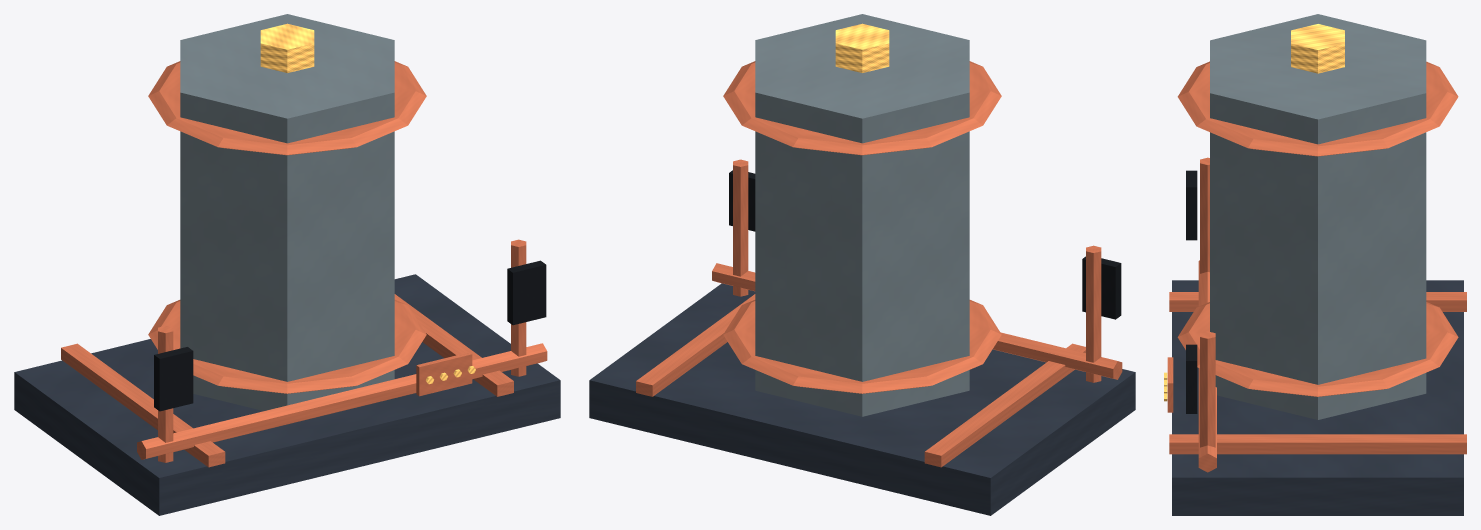
The model's file is atlas100-s022-a02.glb.
3 renders of one model, left to right at view 1: azimuth 30°, elevation 25°; view 2: azimuth 150°, elevation 25°; view 3: azimuth 270°, elevation 25°, orthographic.
Parts seen in each view (by area): view 1: atlas100-s022-a02:part-003, atlas100-s022-a02:part-000, atlas100-s022-a02:part-005, atlas100-s022-a02:part-011, atlas100-s022-a02:part-004, atlas100-s022-a02:part-001, atlas100-s022-a02:part-006, atlas100-s022-a02:part-010, atlas100-s022-a02:part-008, atlas100-s022-a02:part-002, atlas100-s022-a02:part-012, atlas100-s022-a02:part-009 (+1 smaller); view 2: atlas100-s022-a02:part-003, atlas100-s022-a02:part-000, atlas100-s022-a02:part-005, atlas100-s022-a02:part-004, atlas100-s022-a02:part-001, atlas100-s022-a02:part-011, atlas100-s022-a02:part-002, atlas100-s022-a02:part-006, atlas100-s022-a02:part-009, atlas100-s022-a02:part-007, atlas100-s022-a02:part-008, atlas100-s022-a02:part-010; view 3: atlas100-s022-a02:part-003, atlas100-s022-a02:part-000, atlas100-s022-a02:part-005, atlas100-s022-a02:part-004, atlas100-s022-a02:part-002, atlas100-s022-a02:part-006, atlas100-s022-a02:part-009, atlas100-s022-a02:part-001, atlas100-s022-a02:part-011, atlas100-s022-a02:part-007, atlas100-s022-a02:part-008, atlas100-s022-a02:part-010 (+1 smaller).
Boxes of the visible parts, x1,y1,x2,y2 form: atlas100-s022-a02:part-003: (180,14,394,410); atlas100-s022-a02:part-000: (14,274,560,515); atlas100-s022-a02:part-005: (148,61,426,155); atlas100-s022-a02:part-011: (137,343,547,459); atlas100-s022-a02:part-004: (148,300,426,393); atlas100-s022-a02:part-001: (61,343,225,467); atlas100-s022-a02:part-006: (260,23,314,72); atlas100-s022-a02:part-010: (507,260,546,325); atlas100-s022-a02:part-008: (154,347,193,411); atlas100-s022-a02:part-002: (394,294,513,396); atlas100-s022-a02:part-012: (416,352,472,396); atlas100-s022-a02:part-009: (511,239,526,376); atlas100-s022-a02:part-003: (755,14,969,416); atlas100-s022-a02:part-000: (589,283,1135,515); atlas100-s022-a02:part-005: (723,61,1001,155); atlas100-s022-a02:part-004: (723,300,1001,393); atlas100-s022-a02:part-001: (924,343,1085,467); atlas100-s022-a02:part-011: (712,263,1122,379); atlas100-s022-a02:part-002: (636,294,755,396); atlas100-s022-a02:part-006: (835,23,889,72); atlas100-s022-a02:part-009: (733,159,748,296); atlas100-s022-a02:part-007: (1086,245,1101,382); atlas100-s022-a02:part-008: (1082,256,1121,319); atlas100-s022-a02:part-010: (729,170,755,231); atlas100-s022-a02:part-003: (1210,14,1426,419); atlas100-s022-a02:part-000: (1172,280,1463,515); atlas100-s022-a02:part-005: (1177,61,1458,156); atlas100-s022-a02:part-004: (1177,302,1458,396); atlas100-s022-a02:part-002: (1169,434,1466,454); atlas100-s022-a02:part-006: (1291,24,1344,73); atlas100-s022-a02:part-009: (1200,331,1215,447); atlas100-s022-a02:part-001: (1169,292,1466,311); atlas100-s022-a02:part-011: (1198,260,1216,472); atlas100-s022-a02:part-007: (1200,157,1209,273); atlas100-s022-a02:part-008: (1186,170,1197,240); atlas100-s022-a02:part-010: (1186,344,1197,413).
Size of the model in its own units: 2.88 by 2.59 by 1.87.
5 materials, 5 textured.
